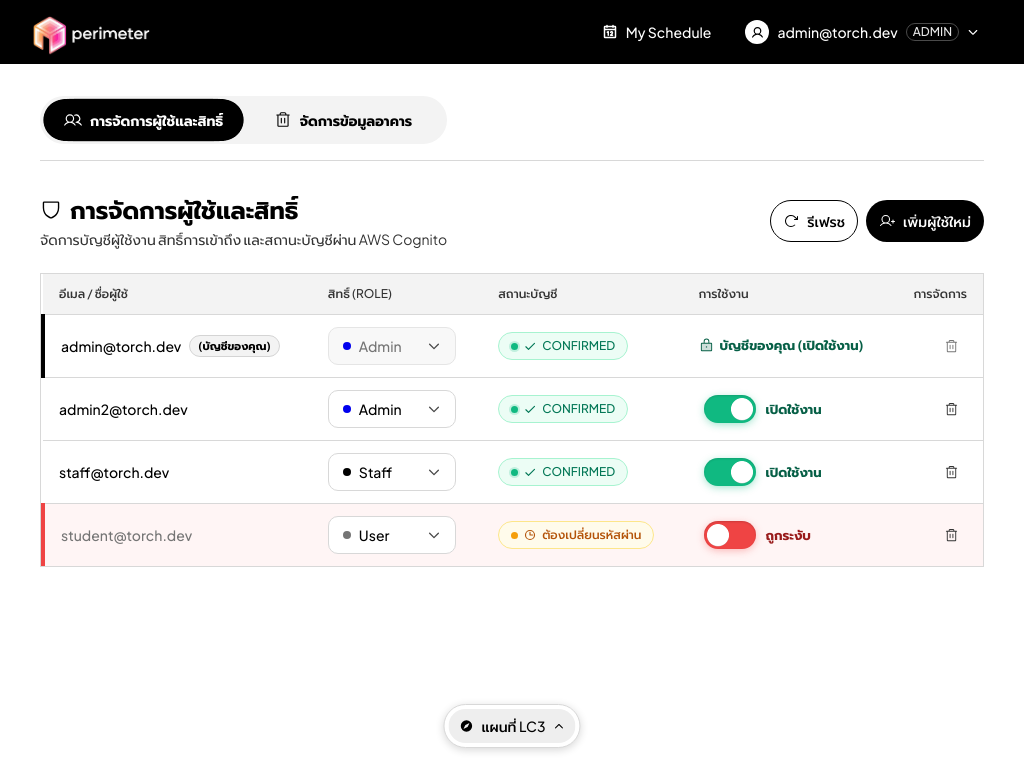
Scenario: AdminManagementPage › allows admin to add a new user
Expected: the text "admin@torch.dev" next to "(บัญชีของคุณ)" is shown, [61,337,181,355]
Step 1. Click the button "เพิ่มผู้ใช้ใหม่" → click(925, 221), box [866,200,984,242]
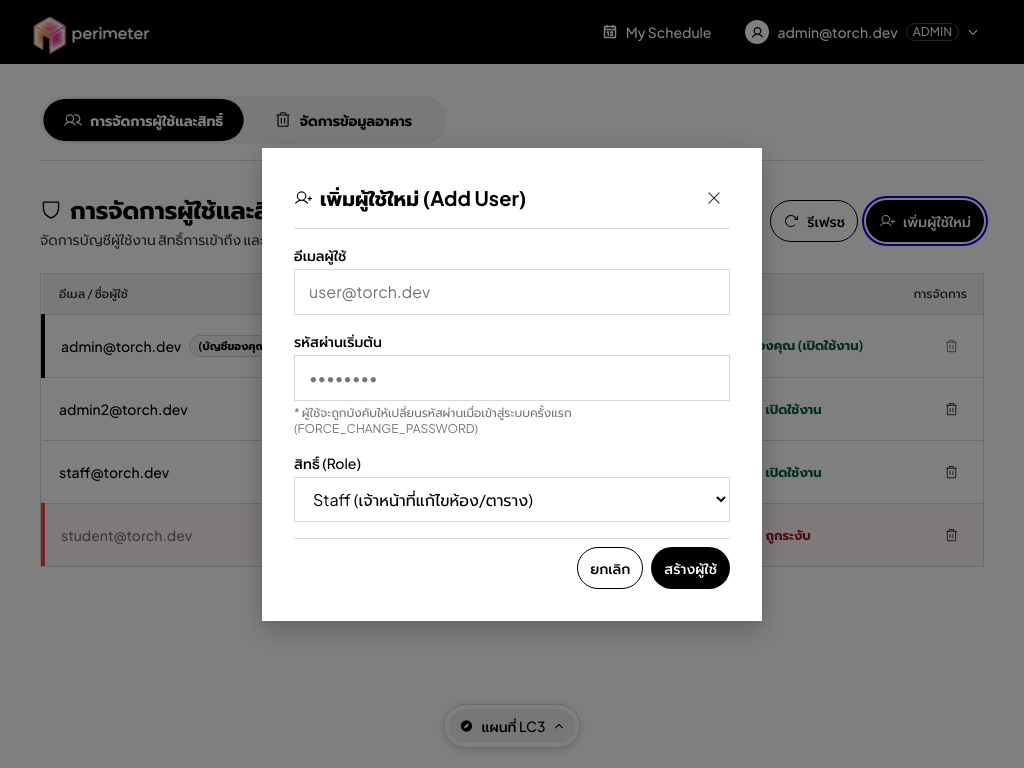
Step 2. Type "newstaff@torch.dev" into the field labelled "อีเมลผู้ใช้" → (512, 292), box [294,268,730,314]
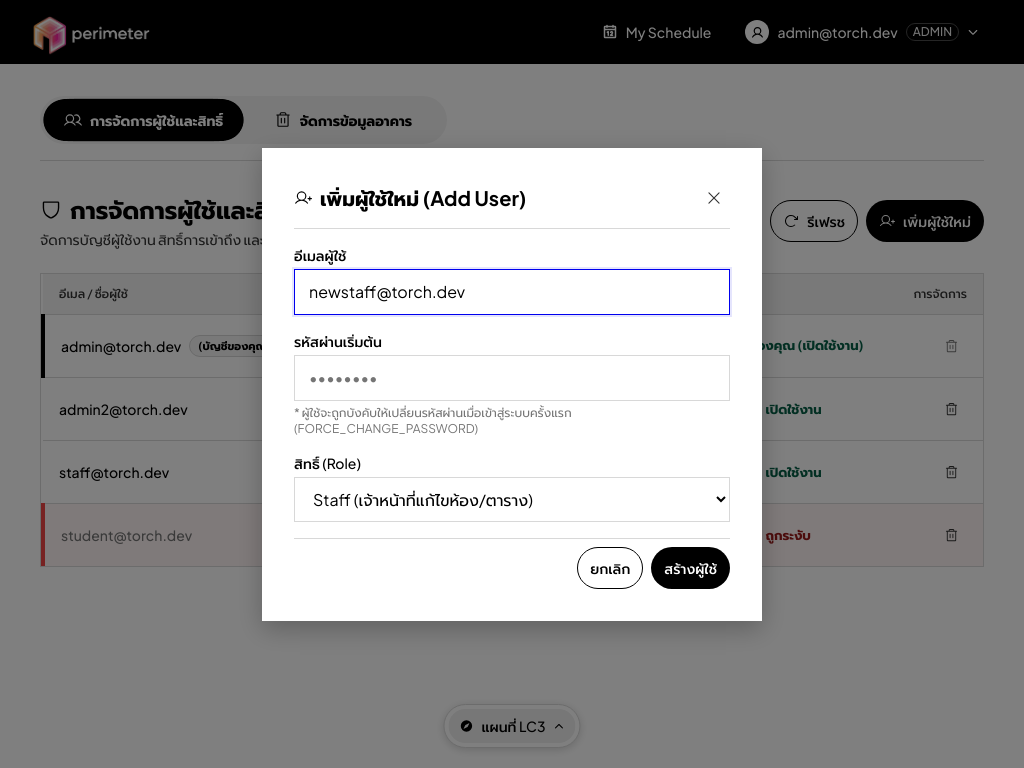
Step 3. Type "NewStaffPass123!" into the password field labelled "รหัสผ่านเริ่มต้น" → (512, 378), box [294,354,730,400]
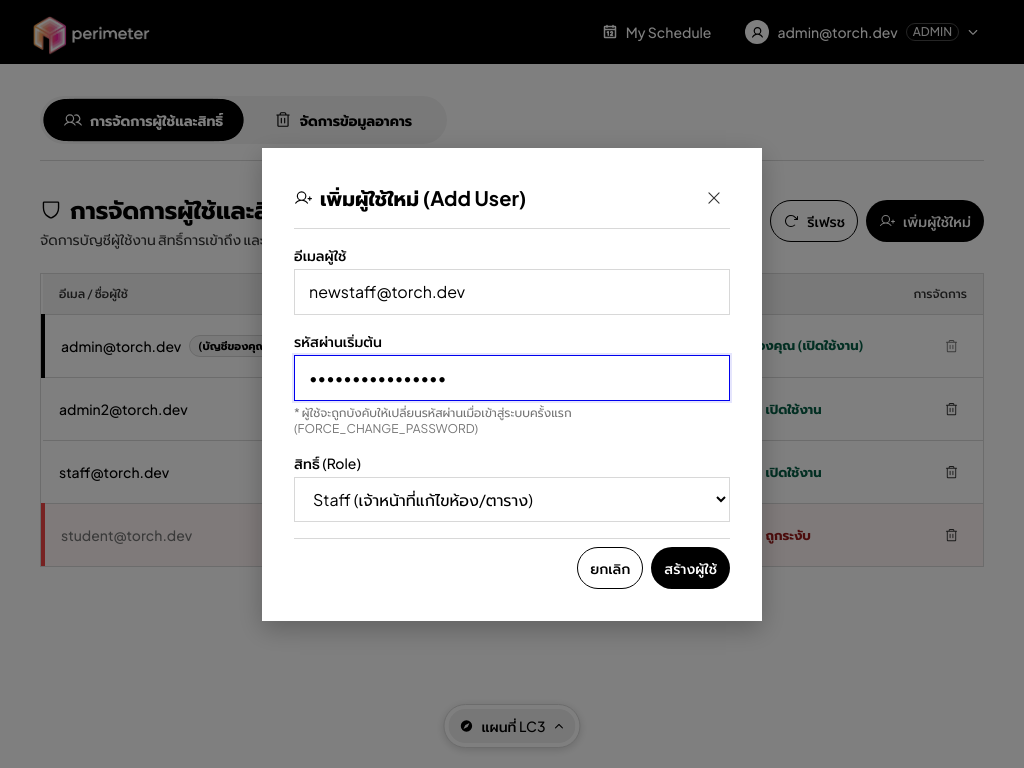
Step 4. Select "Staff (เจ้าหน้าที่แก้ไขห้อง/ตาราง)" in the dropdown labelled "สิทธิ์ (Role)" → (512, 499), box [294,476,730,522]
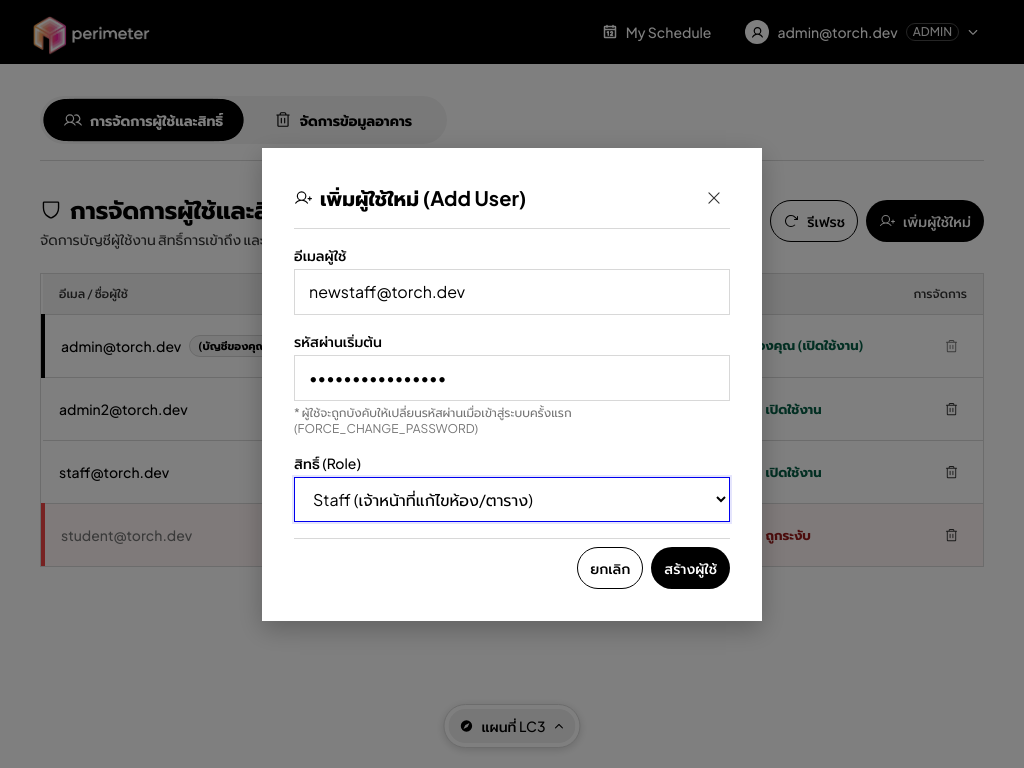
Step 5. Click the button "สร้างผู้ใช้" → click(691, 568), box [651,546,730,588]
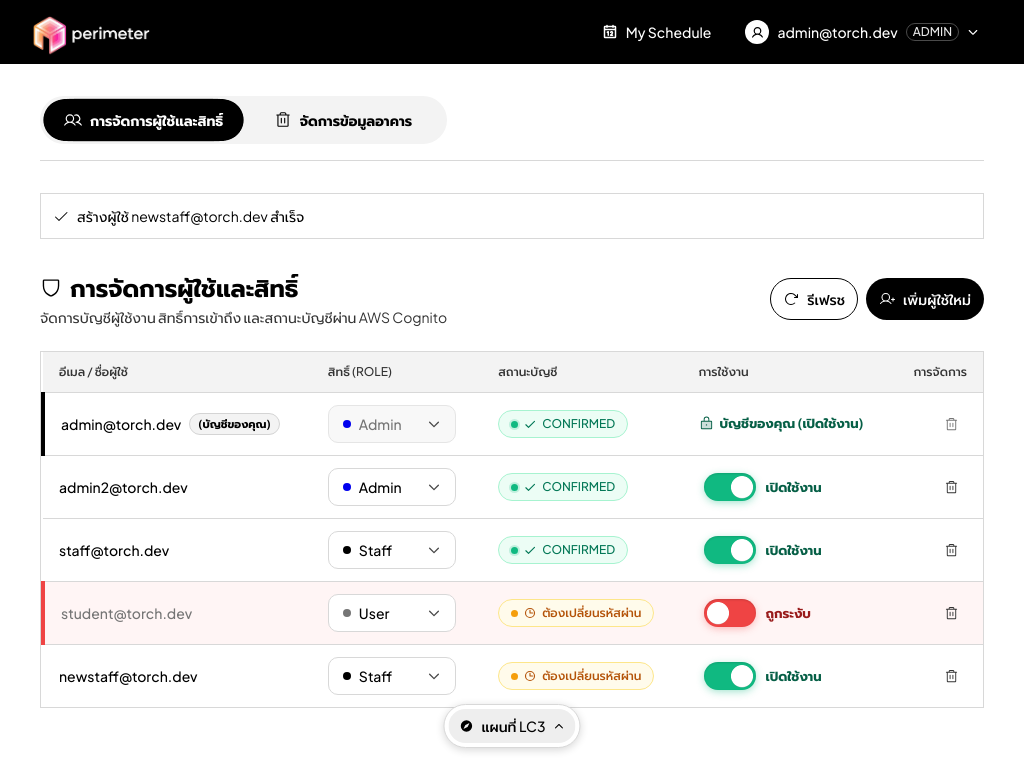
Expected: the text "newstaff@torch.dev" is shown, [59,666,198,686]
